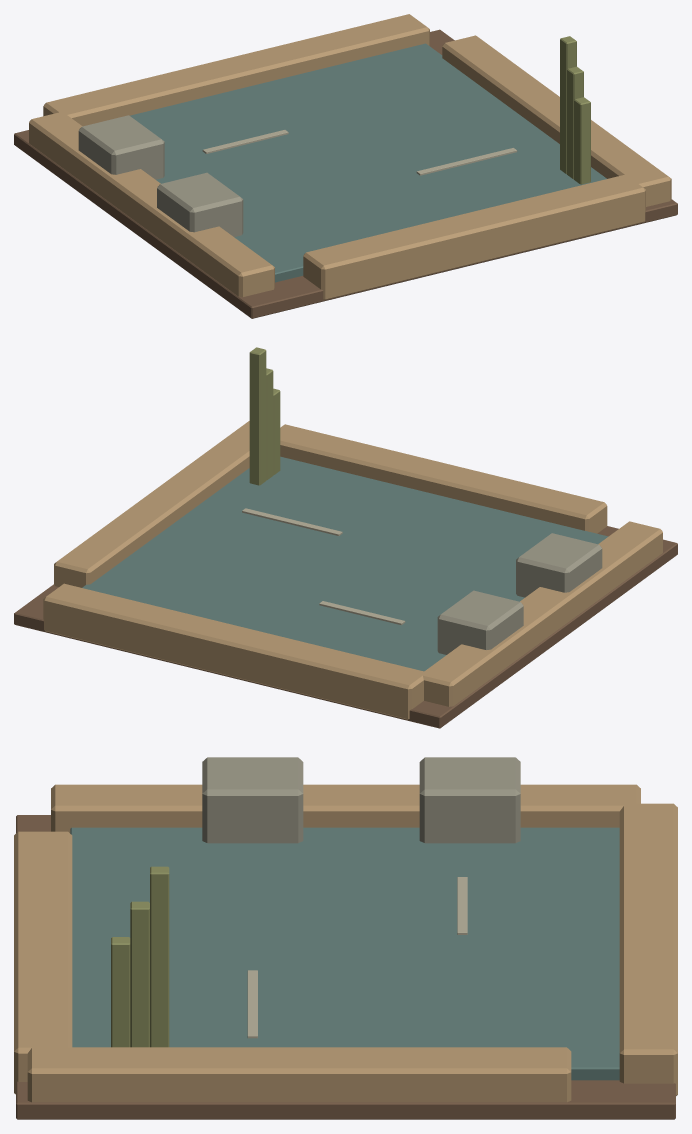
Rendered from warm_pond.glb.
The picture shows the model from 3 angles, top to bottom: view 1: azimuth 30°, elevation 25°; view 2: azimuth 150°, elevation 25°; view 3: azimuth 270°, elevation 25°; orthographic projection. The views are drawn at different scales.
Visible parts, largest first — view 1: pond_sample_glass, pond_sample_dust, pond_sample_stone, pond_sample_soil, pond_sample_grass, pond_sample_stone_light; view 2: pond_sample_glass, pond_sample_dust, pond_sample_stone, pond_sample_soil, pond_sample_grass, pond_sample_stone_light; view 3: pond_sample_glass, pond_sample_dust, pond_sample_stone, pond_sample_soil, pond_sample_grass, pond_sample_stone_light.
Boxes of the visible parts, x1,y1,x2,y2 form: pond_sample_glass: (130,43,606,282); pond_sample_dust: (29,14,671,299); pond_sample_stone: (78,115,243,236); pond_sample_soil: (14,29,677,318); pond_sample_grass: (560,36,590,184); pond_sample_stone_light: (202,130,517,175); pond_sample_glass: (82,456,608,671); pond_sample_dust: (43,421,662,719); pond_sample_stone: (437,533,602,654); pond_sample_soil: (14,526,677,728); pond_sample_grass: (249,347,280,485); pond_sample_stone_light: (242,508,405,625); pond_sample_glass: (70,827,619,1080); pond_sample_dust: (14,784,677,1102); pond_sample_stone: (202,757,520,843); pond_sample_soil: (16,815,675,1119); pond_sample_grass: (111,866,169,1047); pond_sample_stone_light: (247,877,467,1038).
Size of the model in its own units: 0.88 by 0.3 by 0.855.
